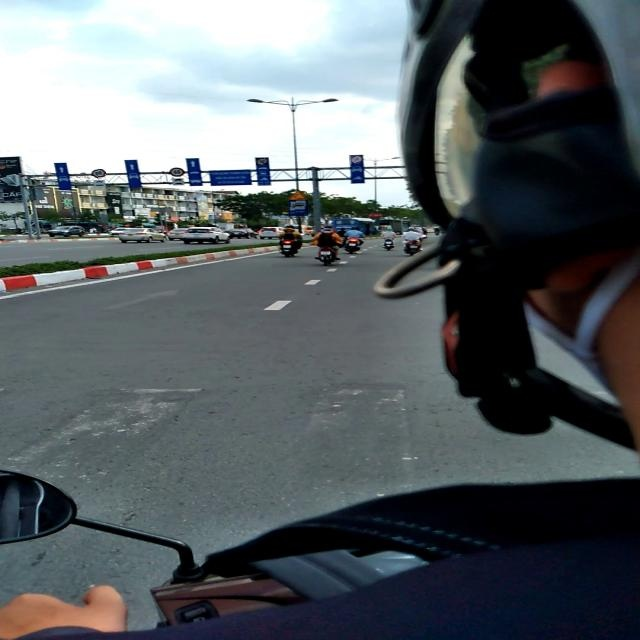bien_chi_dan: (289, 200, 308, 216), (289, 191, 307, 200), (169, 167, 185, 177), (91, 169, 106, 179), (350, 156, 362, 164), (256, 158, 268, 165)
